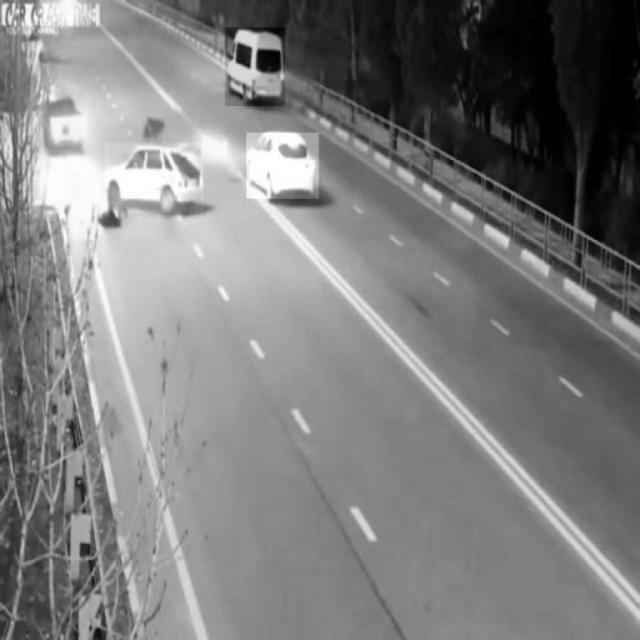vehicle: (106, 143, 204, 213), (247, 133, 319, 199), (226, 28, 286, 106), (46, 91, 83, 151)
